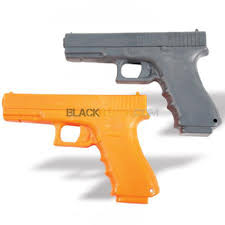Arma Falsa: (2, 87, 170, 206), (61, 28, 225, 138)
